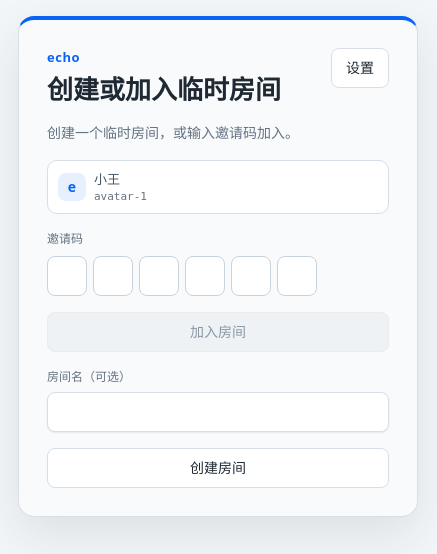
Test case: RoomEntryView › creates a temporary room and shows its invite code before entering the room
Type "今晚开黑" into the field labelled "房间名（可选）".
click(218, 412); type("今晚开黑")  # box [47,392,389,432]
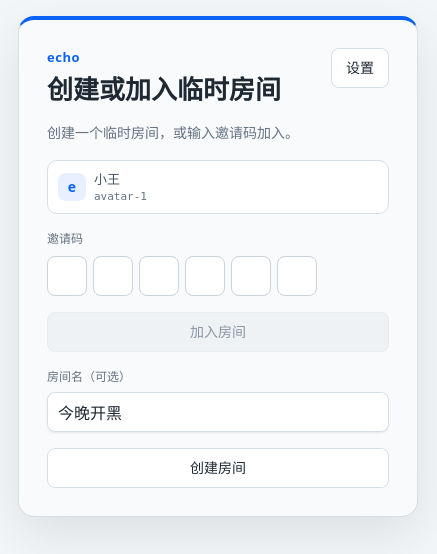
Click the button "创建房间".
click(218, 468)  # box [47,448,389,488]
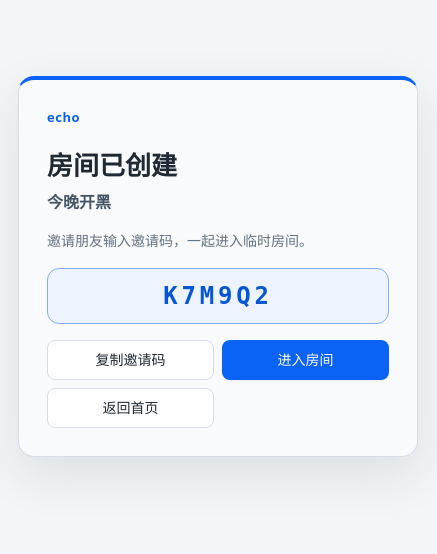
Check: the heading "房间已创建" is shown, box [47,146,177,182]
Check: the text "今晚开黑" is shown, box [47,190,111,212]
Check: the text "K7M9Q2" is shown, box [163,280,273,312]
